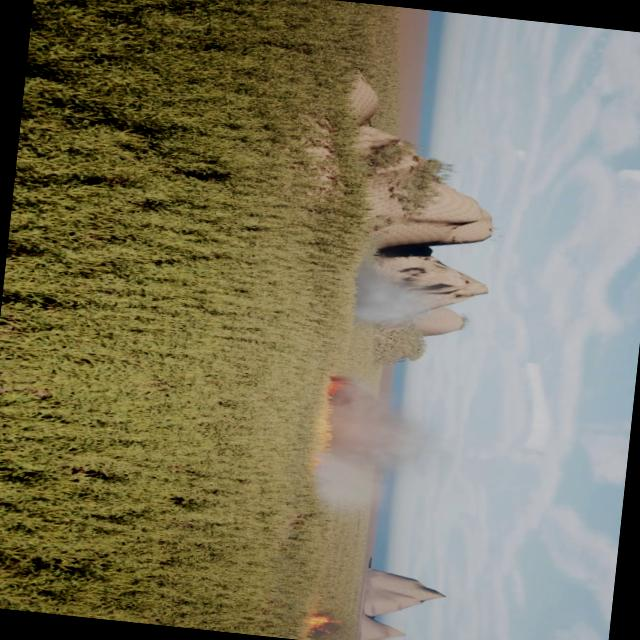fire: (305, 613, 343, 634), (326, 372, 352, 398)
smoke: (304, 372, 438, 516), (351, 258, 442, 332), (306, 614, 344, 640)
